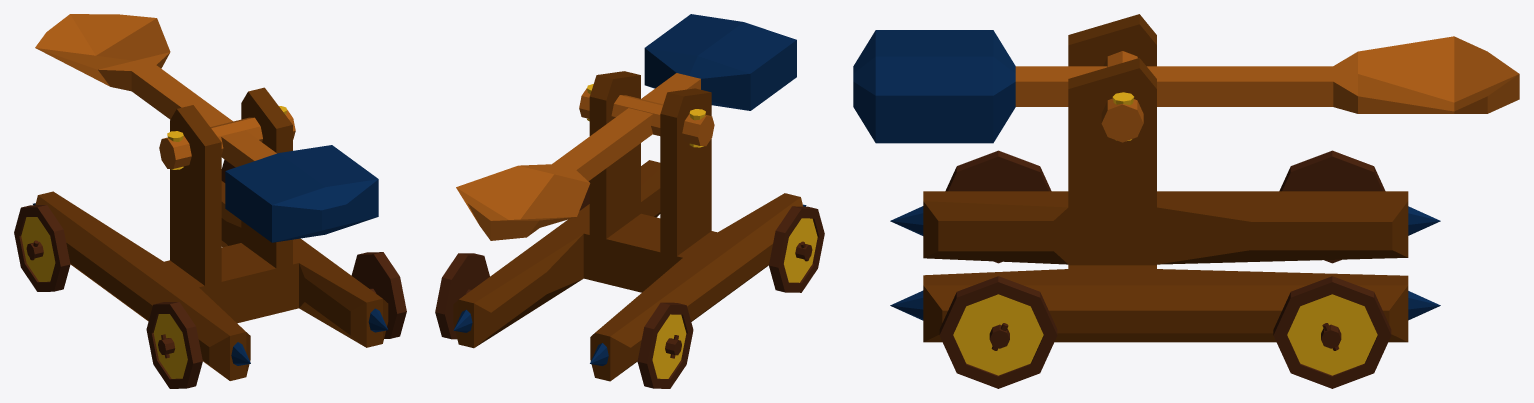
The model's file is BlueCatapult.fbx.
3 views of the same model, side by side, from view 1: azimuth 30°, elevation 25°; view 2: azimuth 150°, elevation 25°; view 3: azimuth 270°, elevation 25° (orthographic). The views are drawn at different scales.
Visible parts, largest first — view 1: Catapult Base, Cylinder.001, Cylinder, Cone; view 2: Catapult Base, Cylinder.001, Cylinder, Cone; view 3: Catapult Base, Cylinder.001, Cylinder, Cone.
Part boxes in pixels (x1,y1,x2,y2): Catapult Base: (35,87,388,380); Cylinder.001: (35,14,378,242); Cylinder: (14,159,406,388); Cone: (33,203,387,365); Catapult Base: (453,71,803,381); Cylinder.001: (456,14,796,240); Cylinder: (435,181,824,388); Cone: (453,204,806,365); Catapult Base: (923,14,1408,342); Cylinder.001: (853,30,1519,143); Cylinder: (939,150,1391,388); Cone: (890,206,1440,320).
Size of the model in its own units: 305 by 285 by 611.
